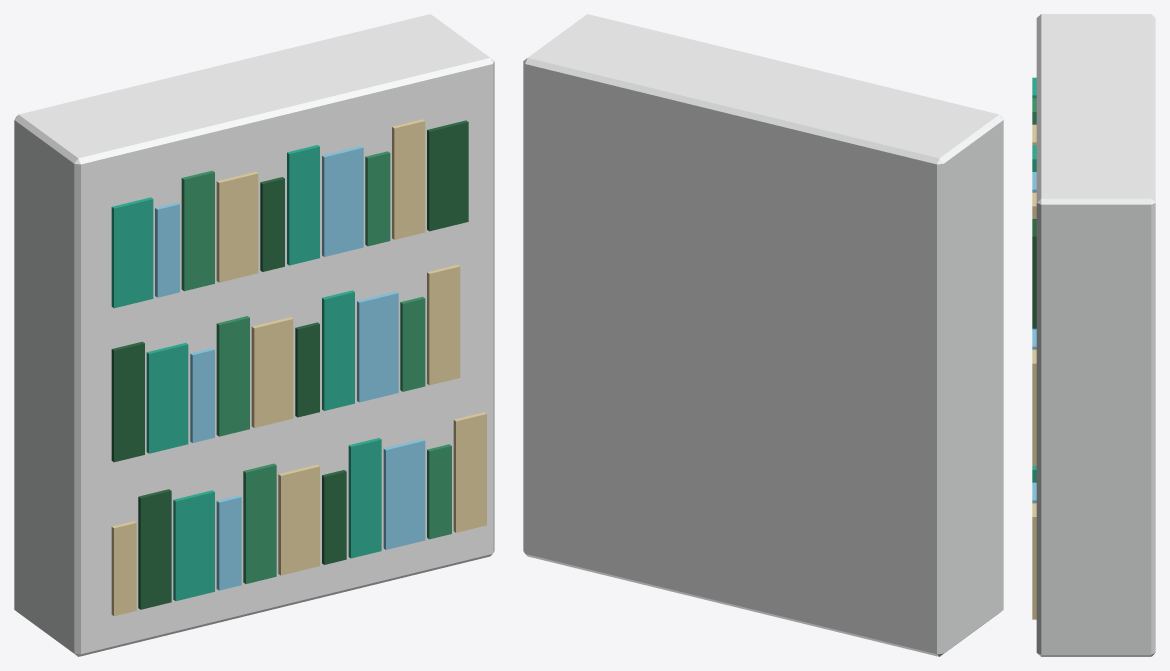
Rendered from bookshelf.fbx.
3 renders of one model, left to right at view 1: azimuth 30°, elevation 25°; view 2: azimuth 150°, elevation 25°; view 3: azimuth 270°, elevation 25°, orthographic. The views are drawn at different scales.
Parts seen in each view (by area): view 1: bookshelf; view 2: bookshelf; view 3: bookshelf.
Part boxes in pixels (<box>): bookshelf: <box>14,14,494,656</box>; bookshelf: <box>523,14,1003,656</box>; bookshelf: <box>1032,14,1155,656</box>.
Bounding box in the file's own units: 3 × 3.4 × 0.83.
